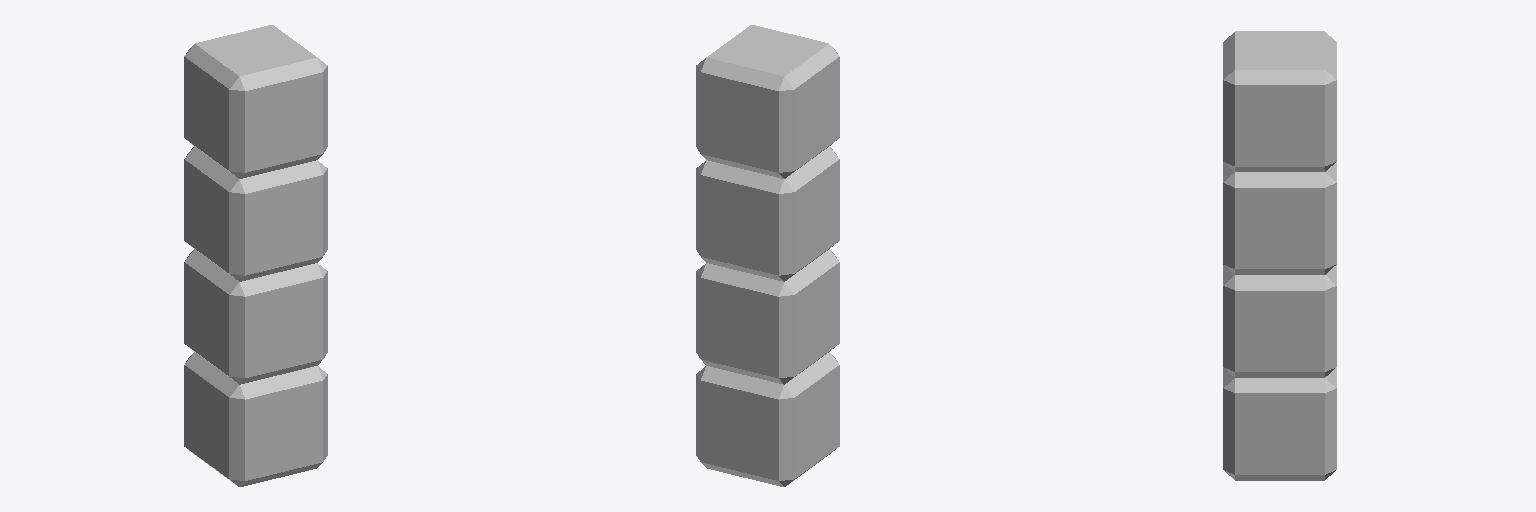
Rendered from primitive_4.obj.
3 views of the same model, side by side, from view 1: azimuth 30°, elevation 25°; view 2: azimuth 150°, elevation 25°; view 3: azimuth 270°, elevation 25° (orthographic).
Visible parts, largest first — view 1: Cube.002, Cube.001, Cube.003, Cube; view 2: Cube.002, Cube.001, Cube.003, Cube; view 3: Cube.002, Cube, Cube.001, Cube.003.
Part boxes in pixels (x1,y1,x2,y2): Cube.002: (184,25,327,178); Cube.001: (184,146,327,281); Cube.003: (184,249,327,384); Cube: (184,352,327,486); Cube.002: (696,25,839,178); Cube.001: (696,146,839,281); Cube.003: (696,249,839,384); Cube: (696,352,839,486); Cube.002: (1223,31,1336,171); Cube: (1223,367,1336,480); Cube.001: (1223,162,1336,274); Cube.003: (1223,265,1336,377).
Size of the model in its own units: 2 by 8 by 2.